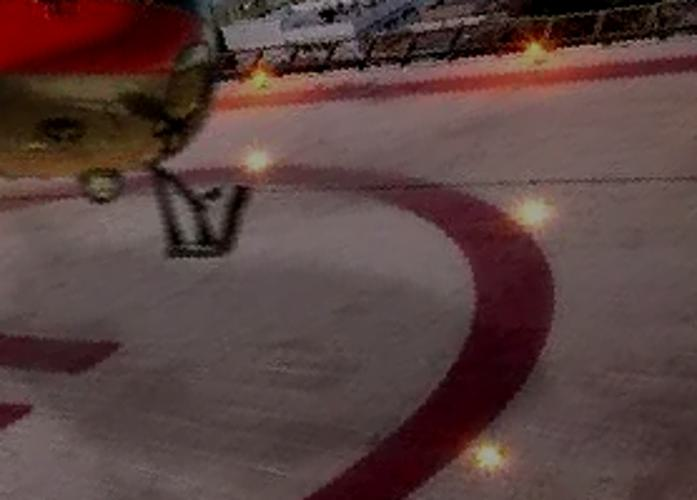Apron: (1, 149, 526, 473)
